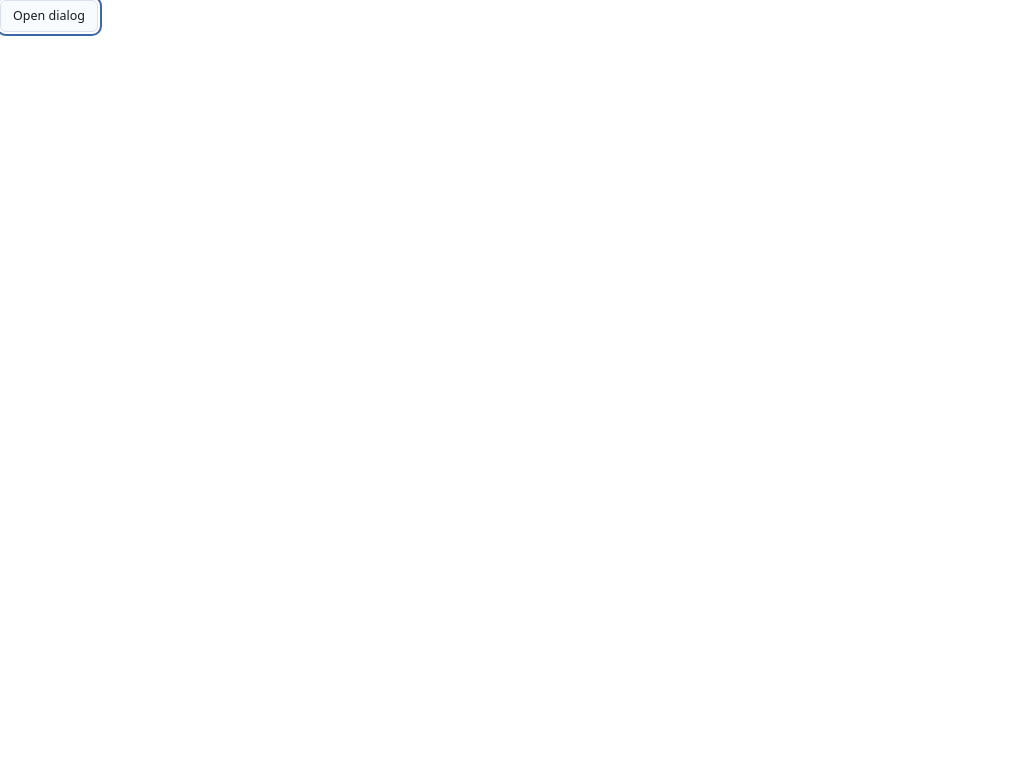
closes on Escape, on a press outside and by a button made for that
Later steps or results of the test are not shown.
Press Enter
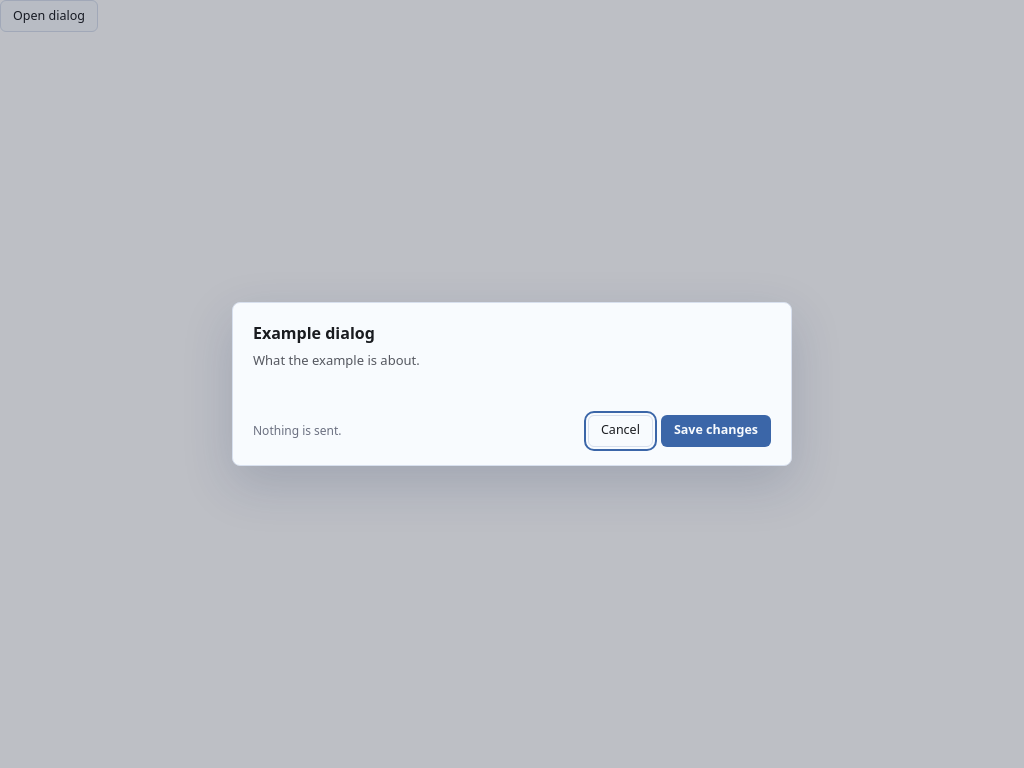
Now the dialog "Example dialog" is shown, box [232,302,792,466]
Press Escape
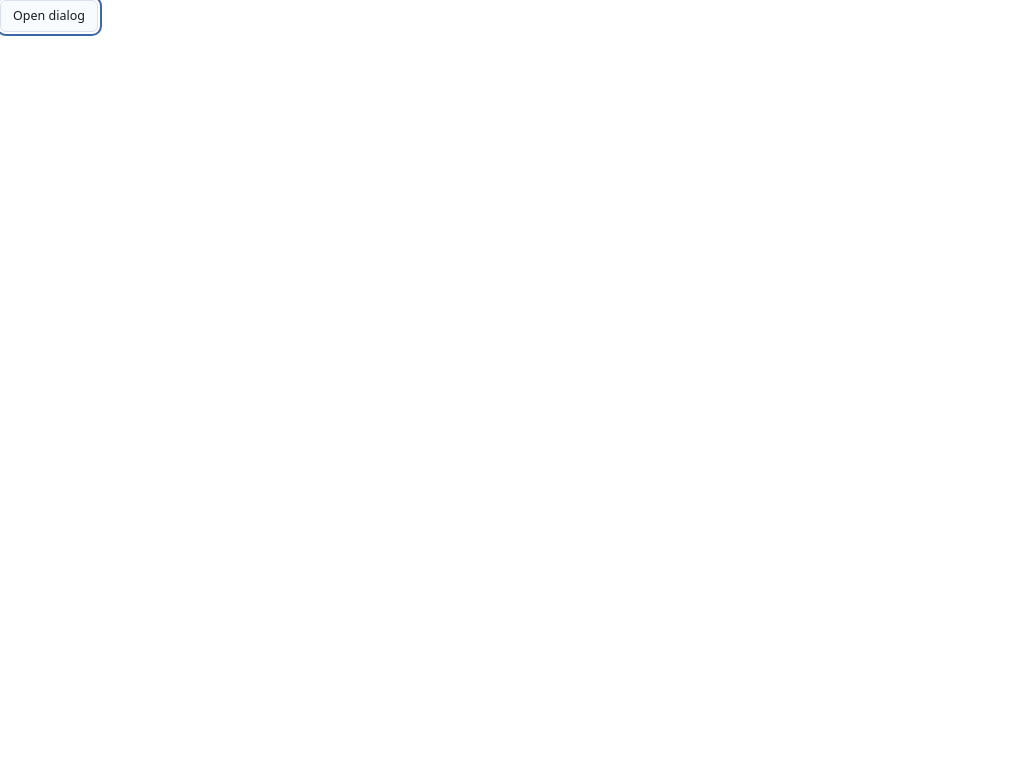
Press Enter
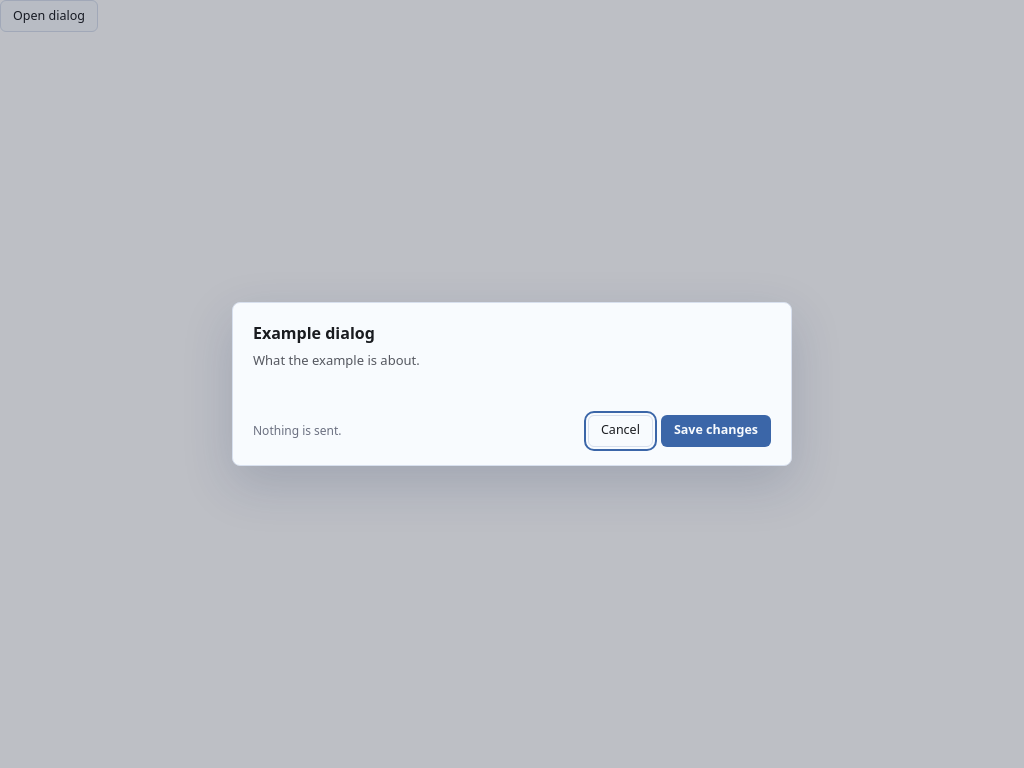
Now the dialog "Example dialog" is shown, box [232,302,792,466]
Click the element showing "Open dialog" at (512, 384), box [0,0,1023,767]
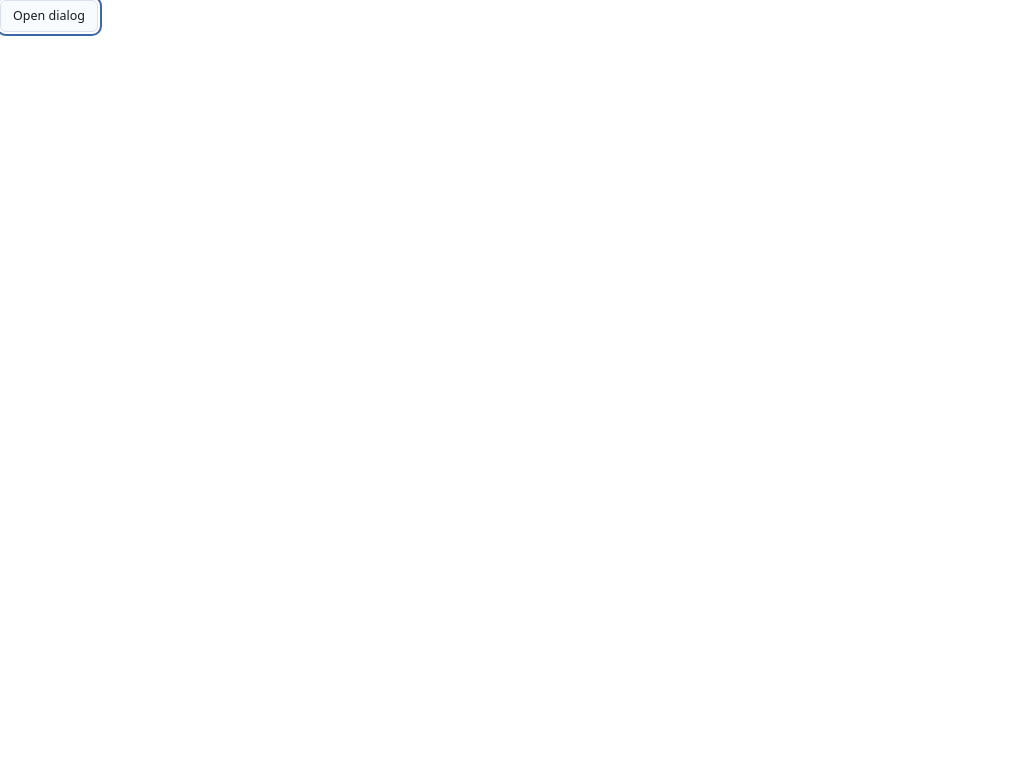
Press Enter
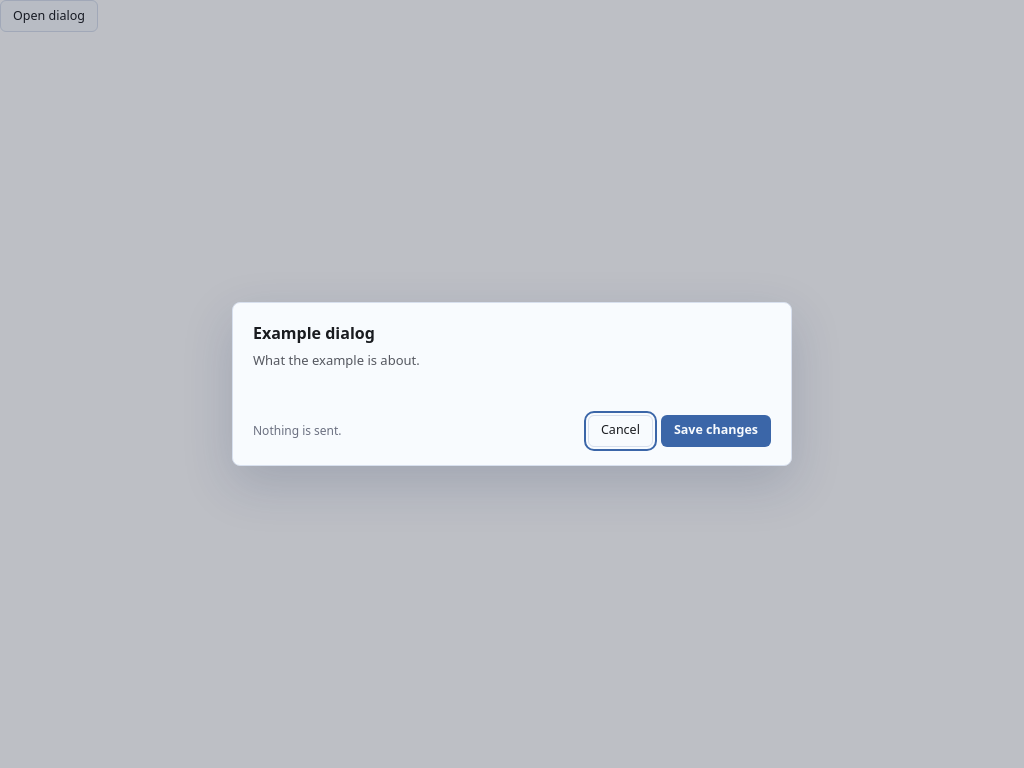
Now the dialog "Example dialog" is shown, box [232,302,792,466]
